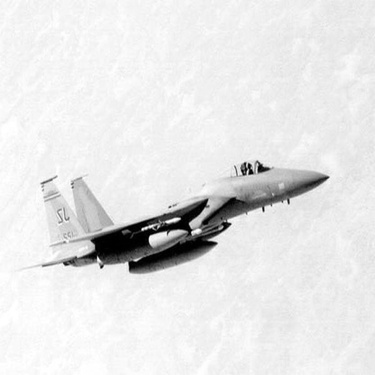airplane: (13, 148, 331, 272)
